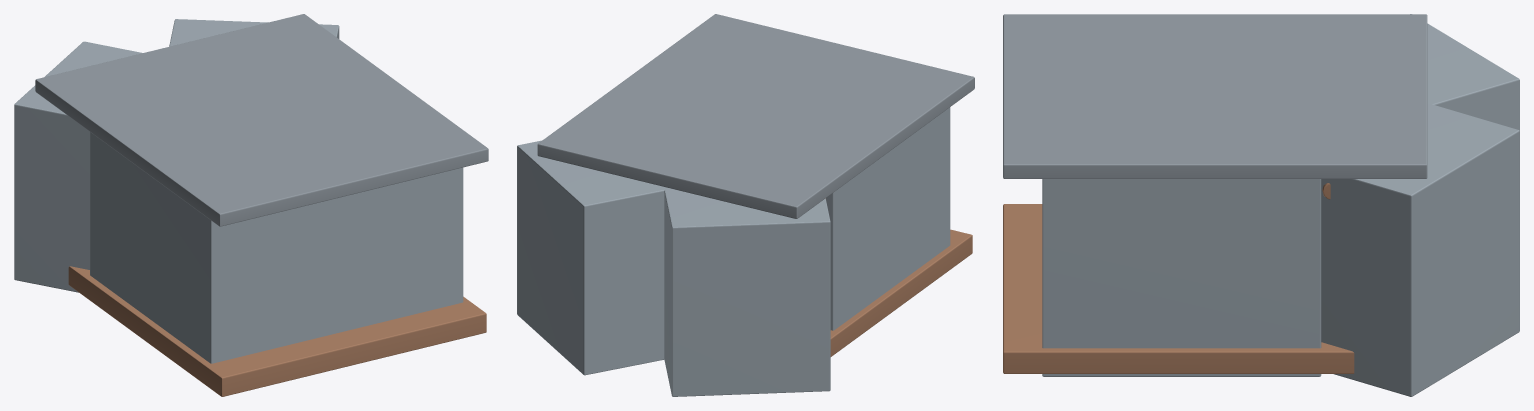
Rendered from hull_bow.glb.
3 views of the same model, side by side, from view 1: azimuth 30°, elevation 25°; view 2: azimuth 150°, elevation 25°; view 3: azimuth 270°, elevation 25° (orthographic). The views are drawn at different scales.
Visible parts, largest first — view 1: hull_bow; view 2: hull_bow; view 3: hull_bow.
Part boxes in pixels (left/top/right/bottom): hull_bow: left=14, top=14, right=488, bottom=396; hull_bow: left=517, top=14, right=974, bottom=396; hull_bow: left=1003, top=14, right=1519, bottom=396.
Bounding box in the file's own units: 7.71 × 4.3 × 9.26.
